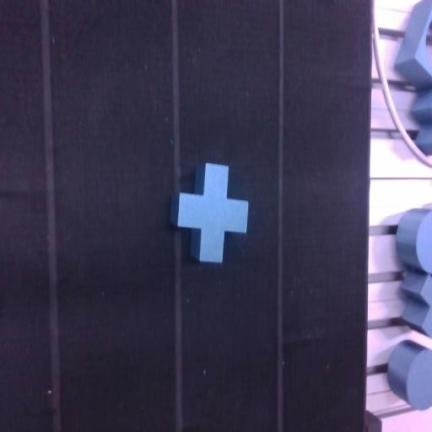cross: (172, 163, 248, 262)
